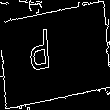P_S: (43, 27, 67, 83)
